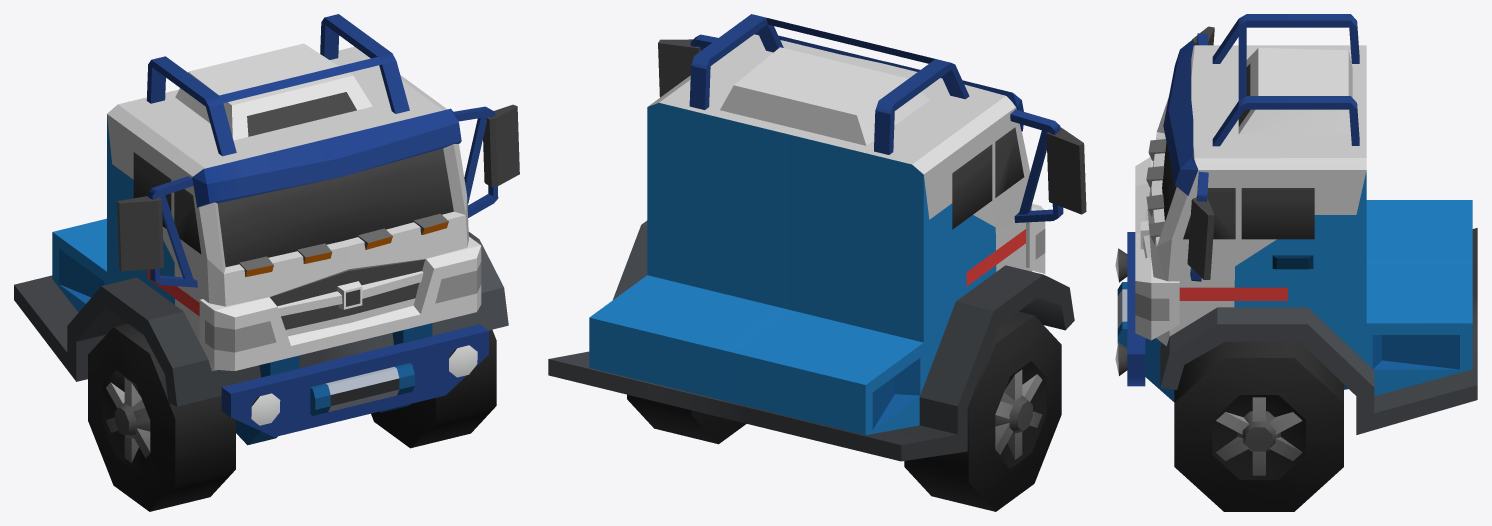
File: head_SP2_1.fbx
3 renders of one model, left to right at view 1: azimuth 30°, elevation 25°; view 2: azimuth 150°, elevation 25°; view 3: azimuth 270°, elevation 25°, orthographic. The views are drawn at different scales.
Parts seen in each view (by area): view 1: head_SP2_1; view 2: head_SP2_1; view 3: head_SP2_1.
Part boxes in pixels (bbox=[...]): head_SP2_1: bbox=[14, 14, 519, 511]; head_SP2_1: bbox=[548, 14, 1086, 511]; head_SP2_1: bbox=[1115, 14, 1477, 511].
Bounding box in the file's own units: 2014 × 1875 × 1631.
